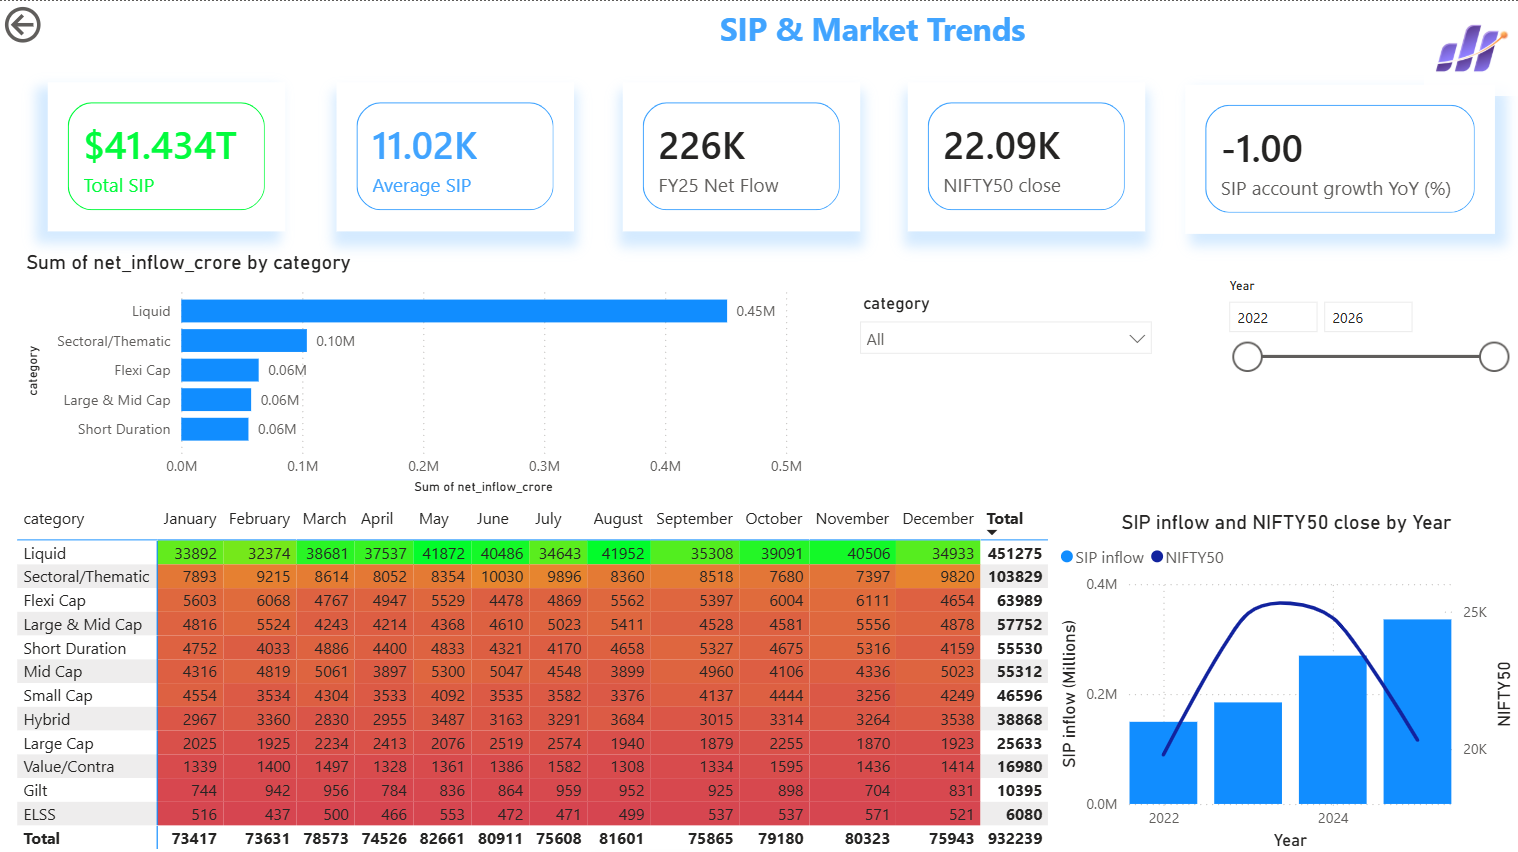

The page's visual inventory and layout, read from the dashboard file:
{"tool":"powerbi","page":{"name":"Dashboard Page 4","canvas":[1280,720],"ordinal":3},"visuals":[{"type":"textbox","box":[191.6,0,925.3,56.8],"z":0},{"type":"lineClusteredColumnComboChart","title":"SIP inflow and NIFTY50 close by Year","fields":{"Category":["monthly_sip_inflows.month.Variation.Date Hierarchy.Year","monthly_sip_inflows.month.Variation.Date Hierarchy.Month"],"Y":["Sum(monthly_sip_inflows.sip_inflow_crore)"],"Y2":["All Measures.NIFTY50 close"]},"box":[888.4,428.4,391.6,291.5],"z":1000},{"type":"pivotTable","fields":{"Rows":["category_inflows.category"],"Columns":["category_inflows.month.Variation.Date Hierarchy.Month"],"Values":["Sum(category_inflows.net_inflow_crore)"]},"box":[10.1,419.5,878.3,300.4],"z":2000},{"type":"clusteredBarChart","fields":{"Category":["category_inflows.category"],"Y":["Sum(category_inflows.net_inflow_crore)"]},"box":[17.7,209.1,664.1,210.4],"z":3000},{"type":"slicer","fields":{"Values":["Date.Year"]},"box":[1022.7,228.1,257.3,96.3],"z":4000},{"type":"slicer","fields":{"Values":["category_inflows.category"]},"box":[714.8,240.8,266.1,73.5],"z":5000},{"type":"cardVisual","fields":{"Data":["All Measures.Total SIP"]},"box":[40.8,68.9,200.2,125.5],"z":6000},{"type":"cardVisual","fields":{"Data":["All Measures.FY25 Net Flow"]},"box":[524.9,68.9,200.2,125.5],"z":7000},{"type":"cardVisual","fields":{"Data":["All Measures.Average SIP"]},"box":[284.1,68.9,200.2,125.5],"z":8000},{"type":"cardVisual","fields":{"Data":["All Measures.NIFTY50 close"]},"box":[765.7,68.9,200.2,125.5],"z":9000},{"type":"cardVisual","fields":{"Data":["All Measures.SIP account growth YoY (%)"]},"box":[998.9,70.2,261.1,125.5],"z":10000},{"type":"image","box":[1200.2,0,79.8,79.8],"z":11000},{"type":"actionButton","box":[0,0,100,40],"z":12000}]}

Visuals, with their boxes in screenshot pixels (x1, y1, x2, y2), scaled from the page's 1280x720 canvas onto the 1518x852 screenshot:
textbox: detection(227, 0, 1325, 67)
"SIP inflow and NIFTY50 close by Year" lineClusteredColumnComboChart: detection(1054, 507, 1517, 851)
pivotTable - category_inflows.category x category_inflows.month.Variation.Date Hierarchy.Month: detection(12, 496, 1054, 851)
clusteredBarChart - category_inflows.category x Sum(category_inflows.net_inflow_crore): detection(21, 247, 809, 496)
slicer - Date.Year: detection(1213, 270, 1517, 384)
slicer - category_inflows.category: detection(848, 285, 1163, 372)
cardVisual - All Measures.Total SIP: detection(48, 82, 286, 230)
cardVisual - All Measures.FY25 Net Flow: detection(622, 82, 860, 230)
cardVisual - All Measures.Average SIP: detection(337, 82, 574, 230)
cardVisual - All Measures.NIFTY50 close: detection(908, 82, 1145, 230)
cardVisual - All Measures.SIP account growth YoY (%): detection(1185, 83, 1494, 232)
image: detection(1423, 0, 1517, 94)
actionButton: detection(0, 0, 119, 47)
